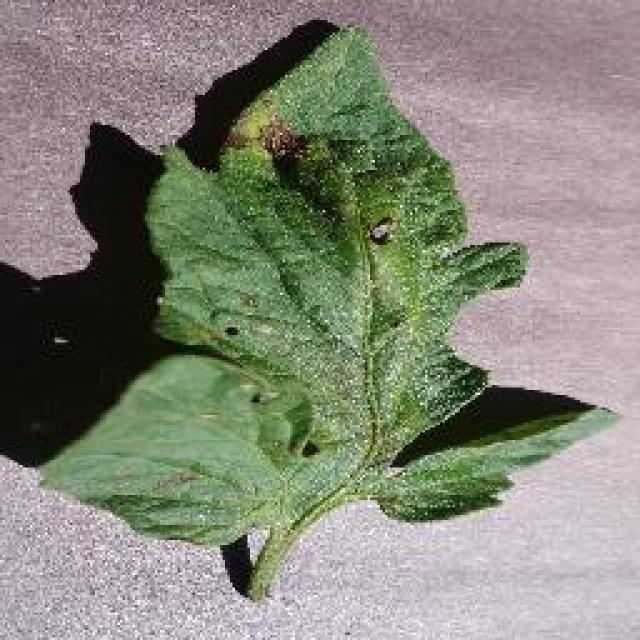Tomato Early blight leaf: (40, 30, 620, 600)
